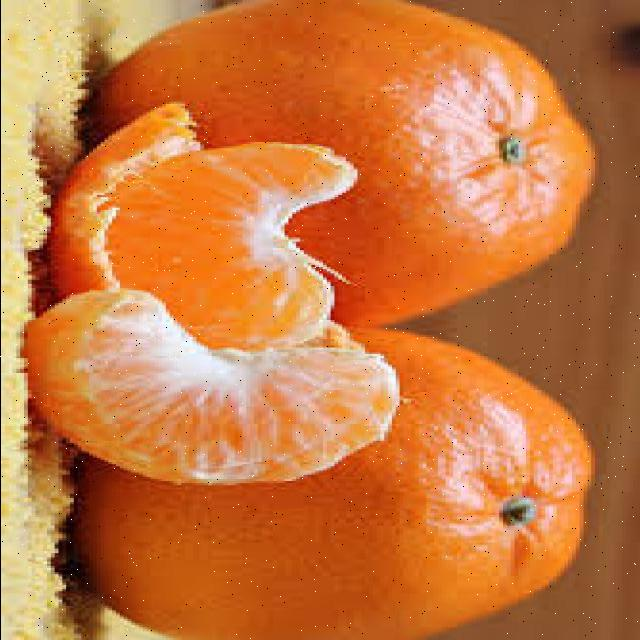Orange: (87, 1, 599, 328), (73, 325, 597, 638)
